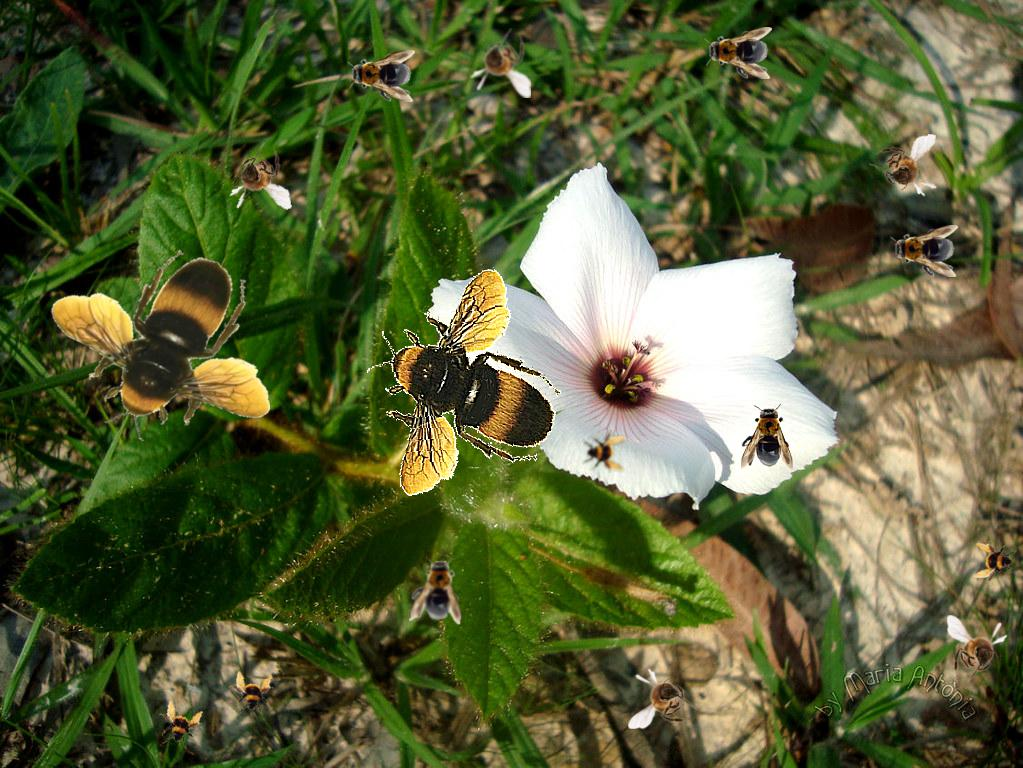Bee: (359, 262, 569, 499), (50, 250, 270, 441), (866, 133, 945, 205), (222, 139, 293, 217), (628, 668, 698, 729), (470, 28, 531, 98), (947, 615, 1008, 685), (409, 554, 465, 626), (890, 225, 958, 277), (704, 27, 772, 79), (347, 50, 415, 102), (741, 403, 793, 471), (152, 698, 206, 752), (228, 670, 274, 716), (582, 429, 626, 473), (973, 541, 1017, 585)
